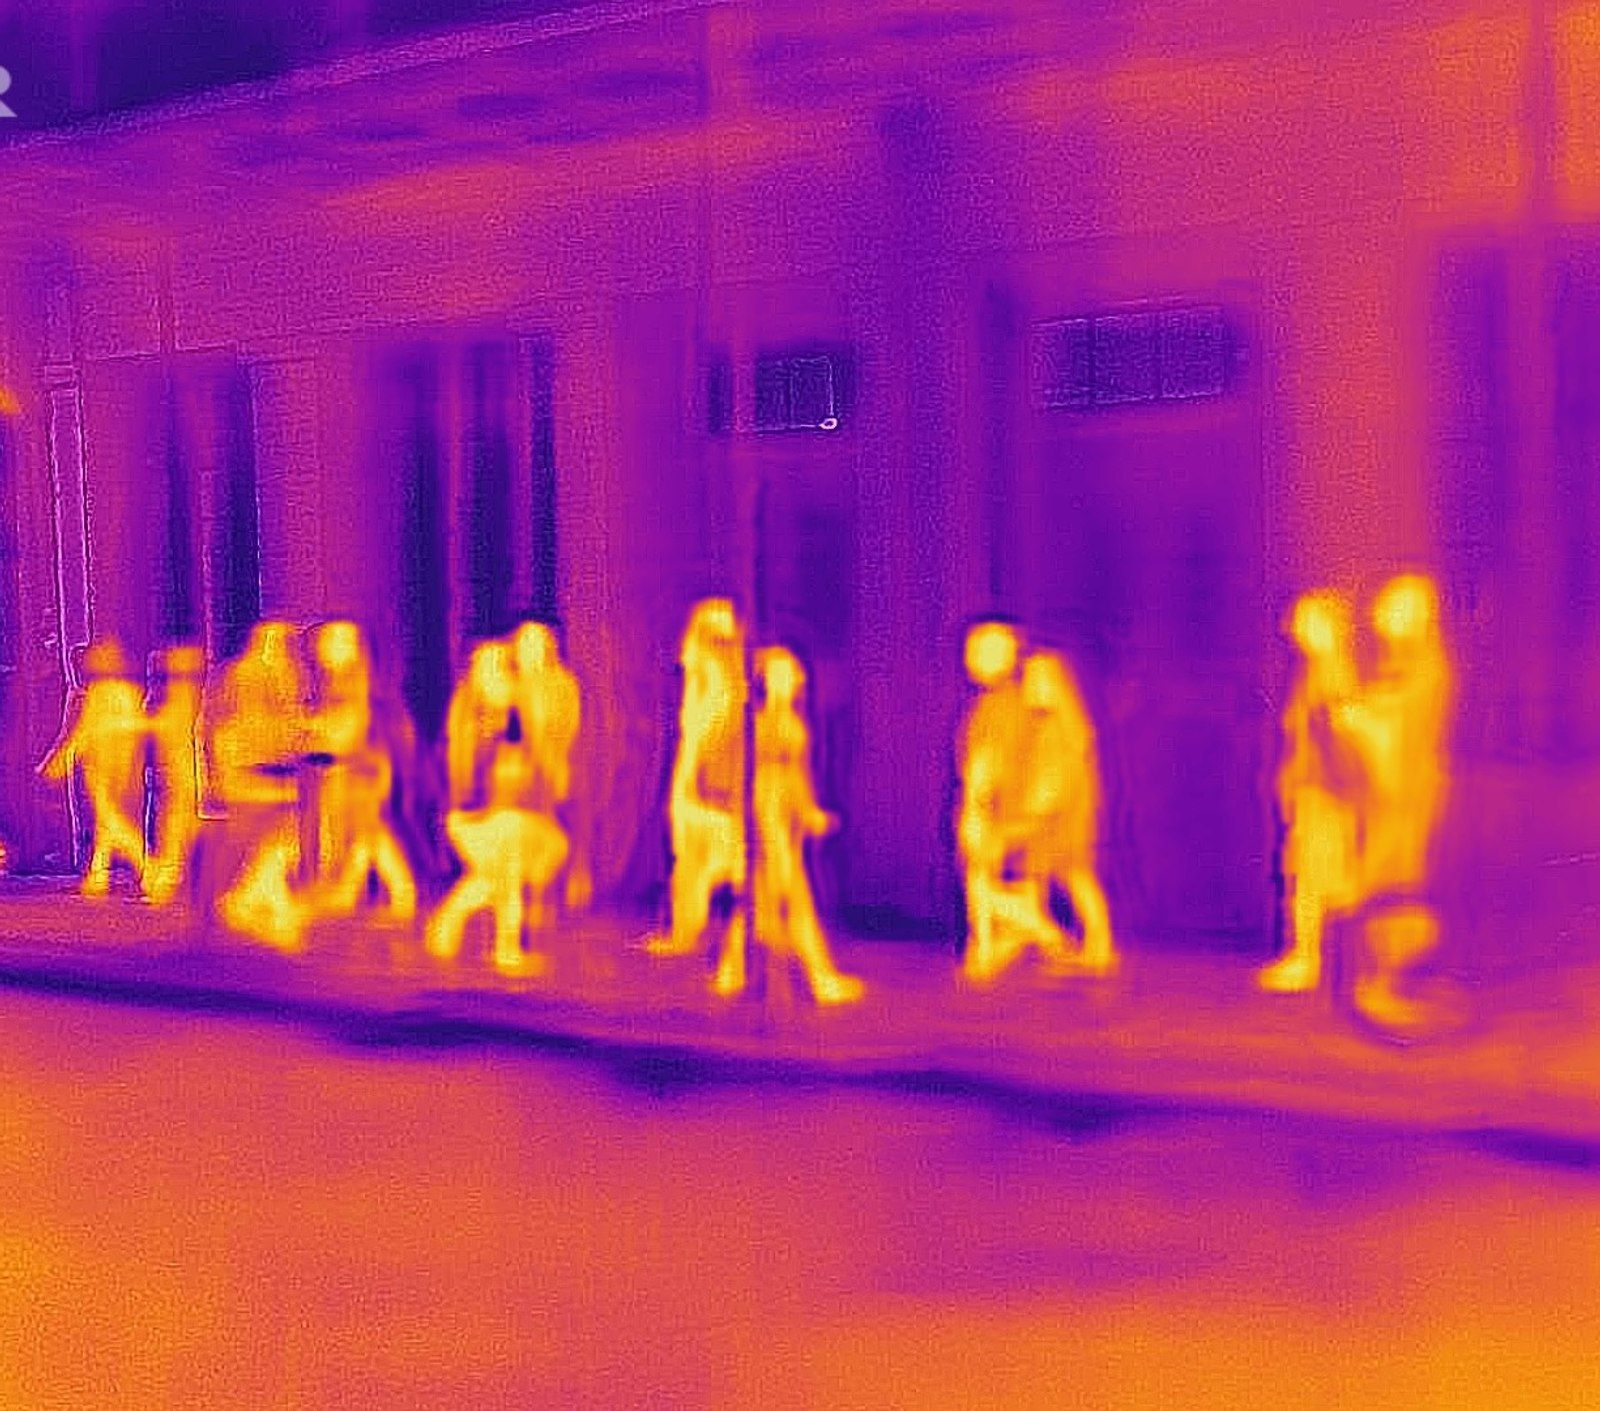person: (703, 644, 861, 1023), (1339, 572, 1464, 1021), (1251, 589, 1376, 1038), (932, 612, 1070, 988), (420, 625, 558, 1001), (466, 603, 604, 979), (648, 588, 786, 964), (282, 590, 420, 966), (203, 597, 341, 973), (1003, 641, 1122, 997), (36, 631, 161, 916), (128, 623, 235, 910)
